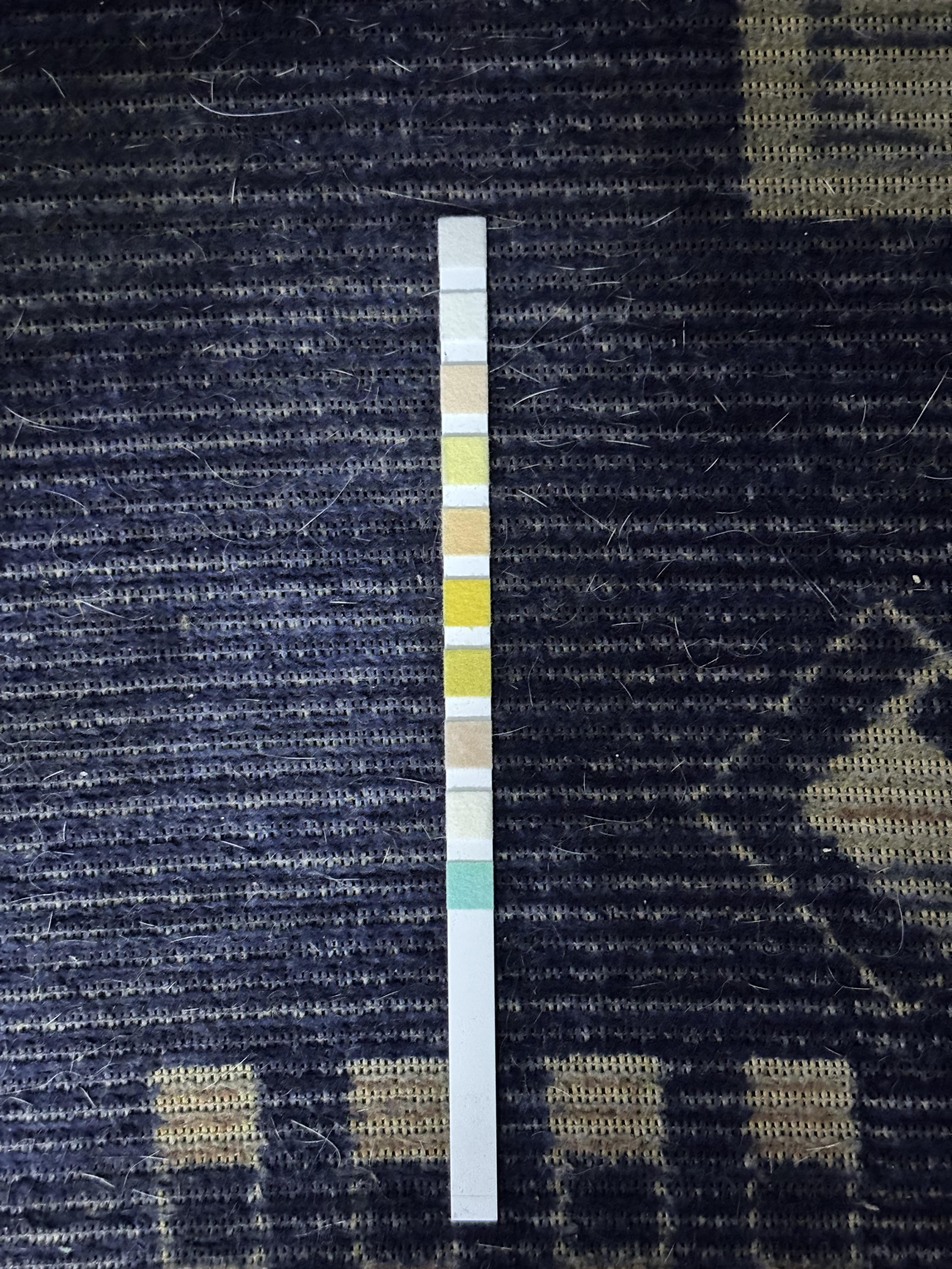Bilirubin: (447, 792, 492, 838)
Blood: (444, 580, 490, 626)
Glucose: (447, 863, 493, 908)
Ketone: (447, 721, 492, 767)
Leukocytes: (439, 218, 486, 267)
Nitrite: (441, 293, 487, 340)
Protein: (443, 437, 489, 483)
SpGravity: (446, 650, 490, 695)
Urobilinogen: (441, 366, 487, 412)
pH: (442, 509, 489, 555)
strip: (438, 217, 497, 1221)
